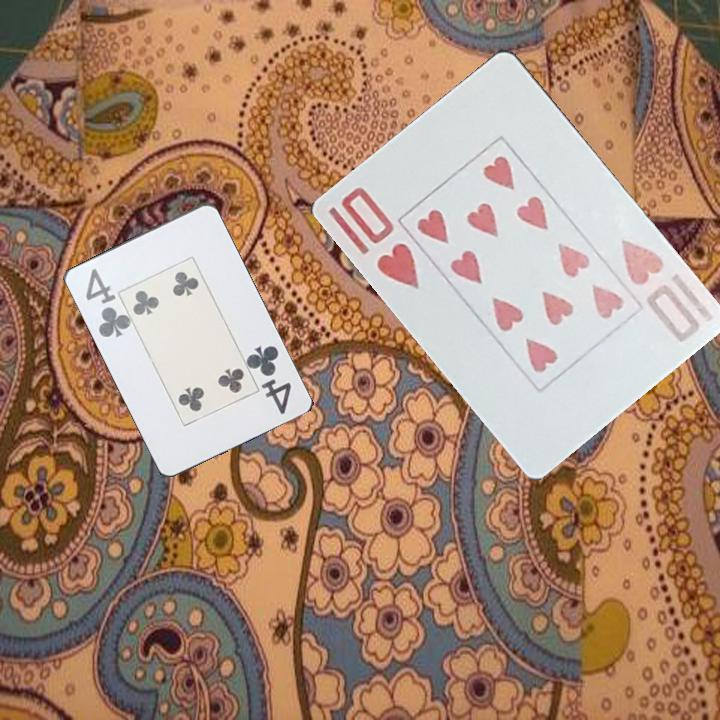4c: (243, 341, 295, 417), (81, 264, 132, 340)
Th: (615, 235, 716, 346), (336, 183, 422, 293)
